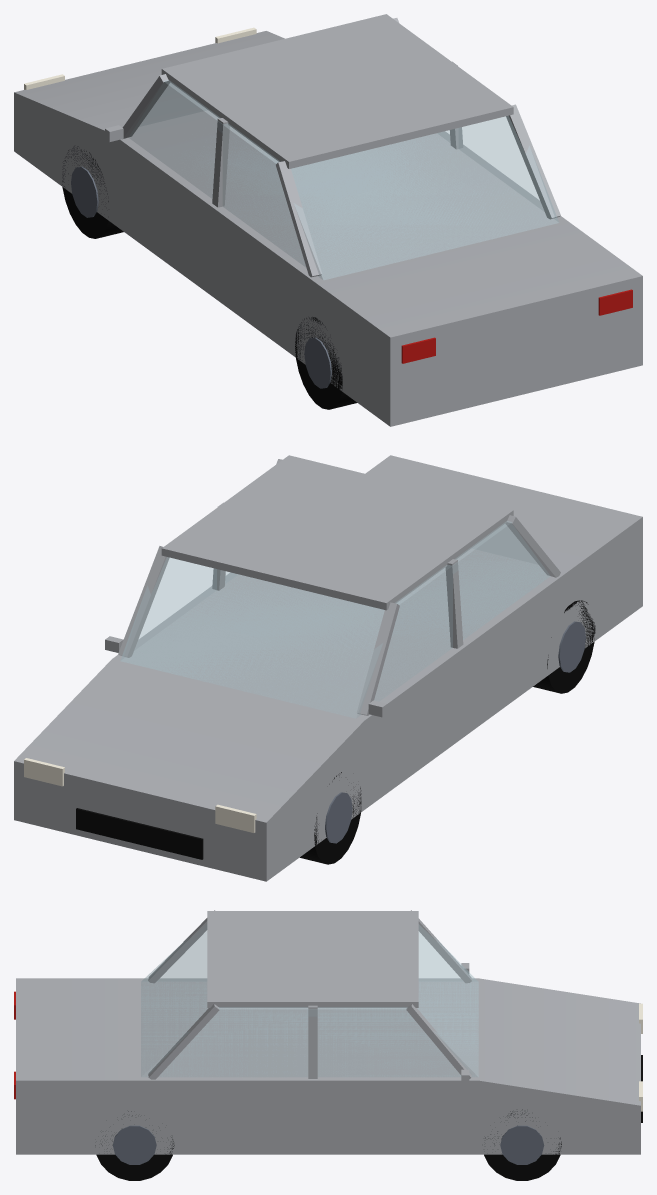
Rendered from vehicle.car.saloon_silver.glb.
3 views of the same model, one above another, from view 1: azimuth 30°, elevation 25°; view 2: azimuth 150°, elevation 25°; view 3: azimuth 270°, elevation 25° (orthographic). The views are drawn at different scales.
Parts seen in each view (by area): view 1: main__car_silver, main__glass, main__rubber, main__steel_painted, main__hazard_red, main__light_emitter; view 2: main__car_silver, main__glass, main__plastic_black, main__rubber, main__steel_painted, main__light_emitter; view 3: main__car_silver, main__glass, main__steel_painted, main__rubber.
Boxes of the visible parts, x1,y1,x2,y2 form: main__car_silver: (14,14,642,426); main__glass: (129,80,558,279); main__rubber: (62,146,357,409); main__steel_painted: (71,166,331,388); main__hazard_red: (401,289,632,363); main__light_emitter: (24,27,256,89); main__car_silver: (14,455,642,881); main__glass: (120,521,549,718); main__plastic_black: (76,808,203,859); main__rubber: (300,600,595,864); main__steel_painted: (325,621,585,843); main__light_emitter: (24,758,256,832); main__car_silver: (16,910,640,1154); main__glass: (141,924,478,1076); main__steel_painted: (112,1125,544,1164); main__rubber: (95,1109,561,1180).
Bounding box in the file's own units: 2 × 1.44 × 4.73.
